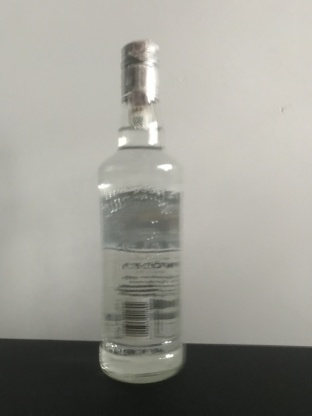nakretka: (118, 38, 161, 105)
